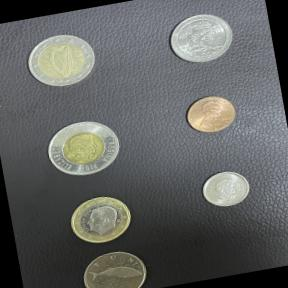coin: (37, 110, 129, 188), (20, 26, 104, 96), (162, 7, 241, 71), (62, 189, 139, 250), (75, 242, 154, 288), (178, 88, 241, 139), (196, 164, 254, 214)
